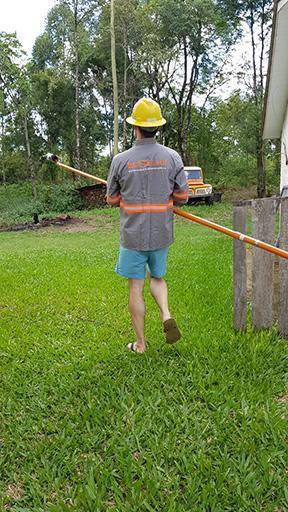helmet: (125, 94, 166, 138)
